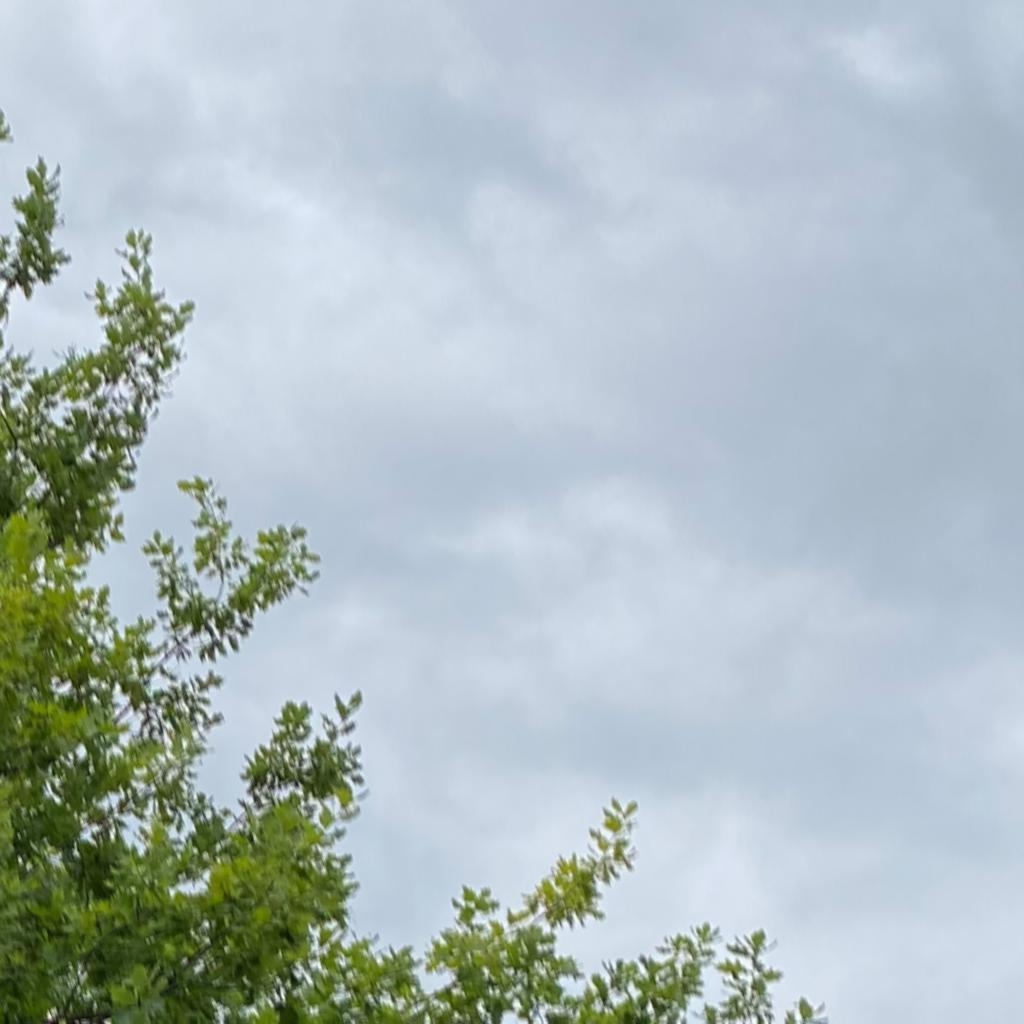tree: (1, 104, 826, 1023)
